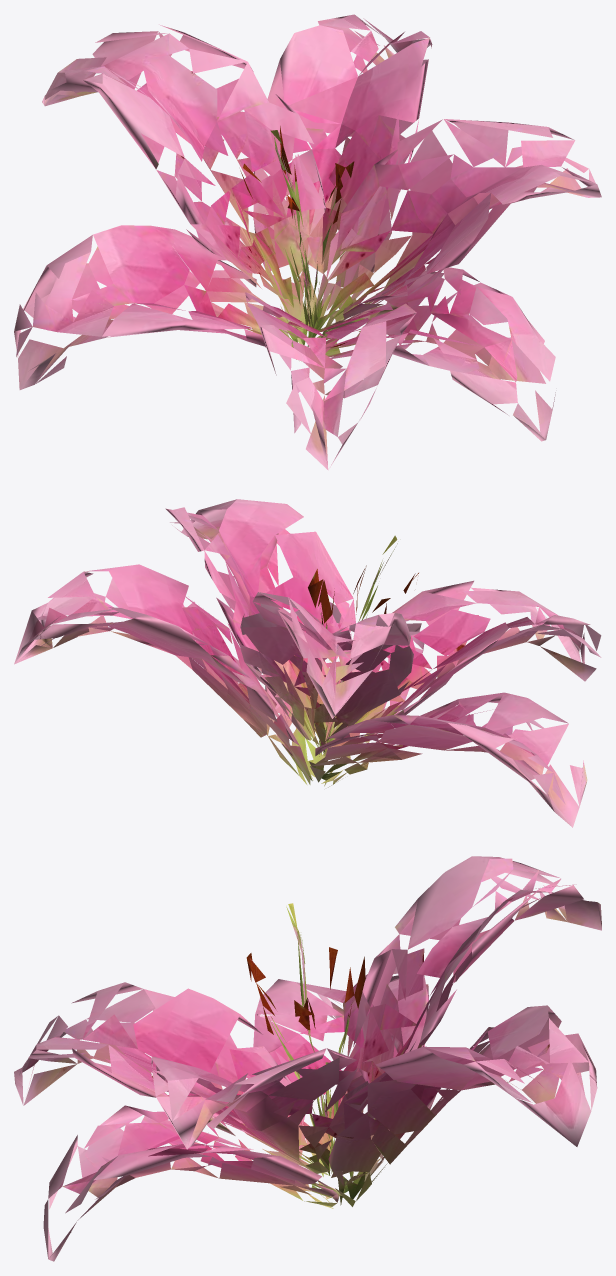
Rendered from qr-lily.glb.
The picture shows the model from 3 angles, top to bottom: view 1: azimuth 30°, elevation 25°; view 2: azimuth 150°, elevation 25°; view 3: azimuth 270°, elevation 25°; orthographic projection. The views are drawn at different scales.
Parts seen in each view (by area): view 1: mesh_node; view 2: mesh_node; view 3: mesh_node.
Boxes of the visible parts, box(x1,y1,x2,y2) form: mesh_node: box(14, 14, 601, 470); mesh_node: box(14, 499, 601, 827); mesh_node: box(14, 856, 601, 1261).
Size of the model in its own units: 2 by 1.09 by 1.95.
1 material, 1 textured.
